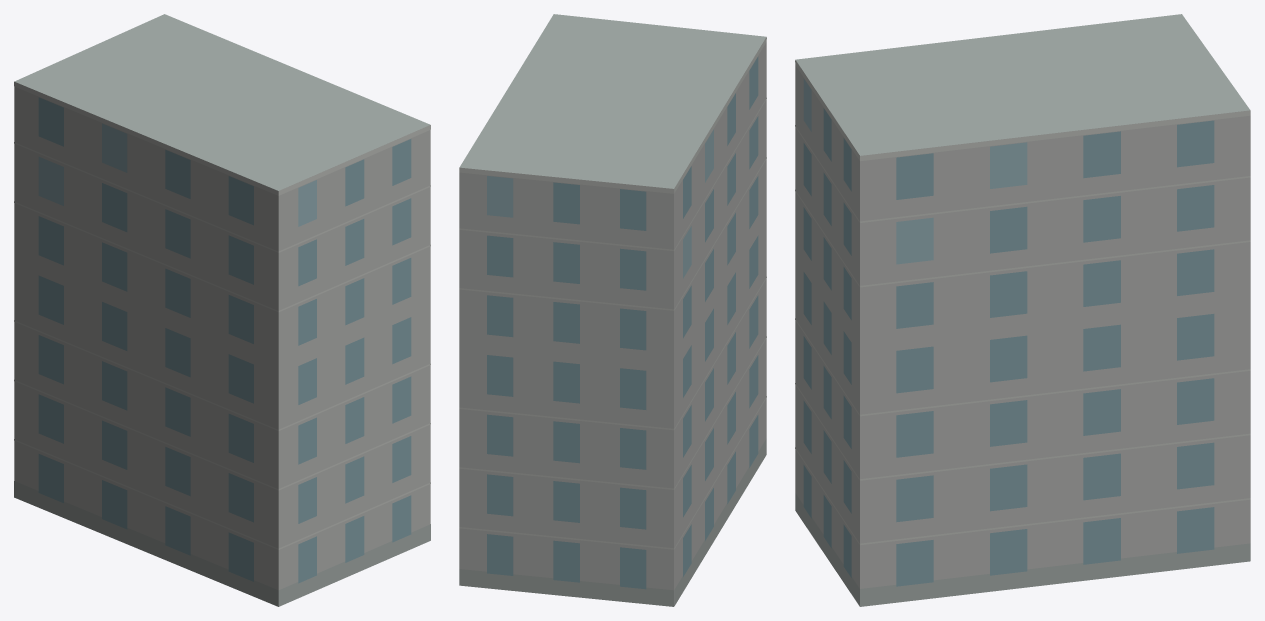
File: survey-upis-32749675.glb
3 views of the same model, side by side, from view 1: azimuth 30°, elevation 25°; view 2: azimuth 150°, elevation 25°; view 3: azimuth 270°, elevation 25° (orthographic). The views are drawn at different scales.
Parts seen in each view (by area): view 1: survey-upis-32749675.tmp; view 2: survey-upis-32749675.tmp; view 3: survey-upis-32749675.tmp.
Part boxes in pixels (left/top/right/bottom): survey-upis-32749675.tmp: left=14, top=14, right=430, bottom=606; survey-upis-32749675.tmp: left=459, top=14, right=766, bottom=606; survey-upis-32749675.tmp: left=795, top=14, right=1250, bottom=606.
Size of the model in its own units: 13.92 by 20.6 by 18.87.
